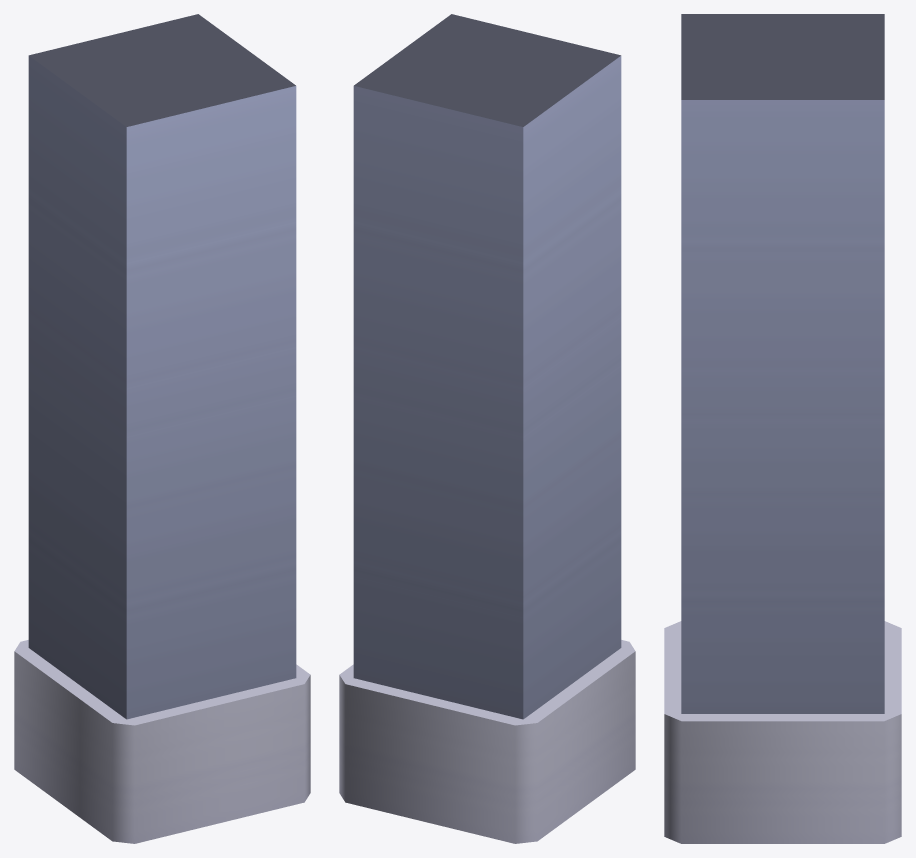
File: part_column_wide.fbx
The picture shows the model from 3 angles, left to right: view 1: azimuth 30°, elevation 25°; view 2: azimuth 150°, elevation 25°; view 3: azimuth 270°, elevation 25°; orthographic projection. The views are drawn at different scales.
Parts seen in each view (by area): view 1: column-wide; view 2: column-wide; view 3: column-wide.
Boxes of the visible parts, bbox=[...] form: column-wide: bbox=[14, 14, 310, 843]; column-wide: bbox=[339, 14, 635, 843]; column-wide: bbox=[664, 14, 901, 843].
Bounding box in the file's own units: 70 × 240 × 70.
1 material, 1 textured.
